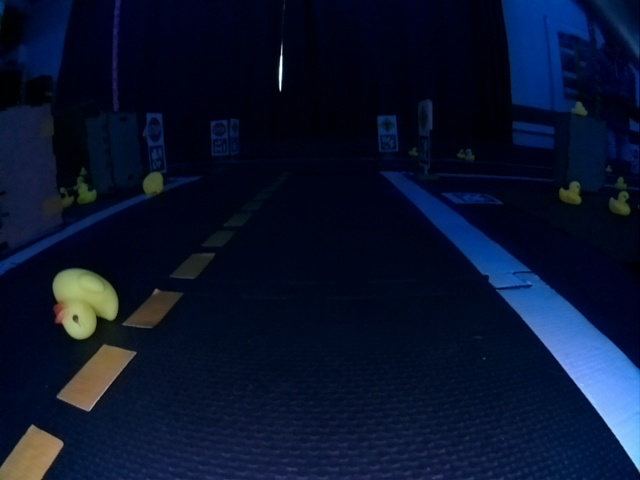Duckie: (55, 270, 120, 338), (561, 183, 583, 204), (143, 173, 164, 195), (611, 192, 629, 213), (77, 185, 98, 202), (573, 102, 588, 116), (59, 188, 70, 207), (410, 148, 418, 157), (617, 178, 625, 186)
Intersection sign: (379, 118, 395, 133)
QR code: (442, 189, 503, 206), (148, 147, 164, 173), (381, 135, 397, 148), (215, 138, 225, 154)
Stop sign: (148, 116, 163, 142), (212, 122, 226, 135)
